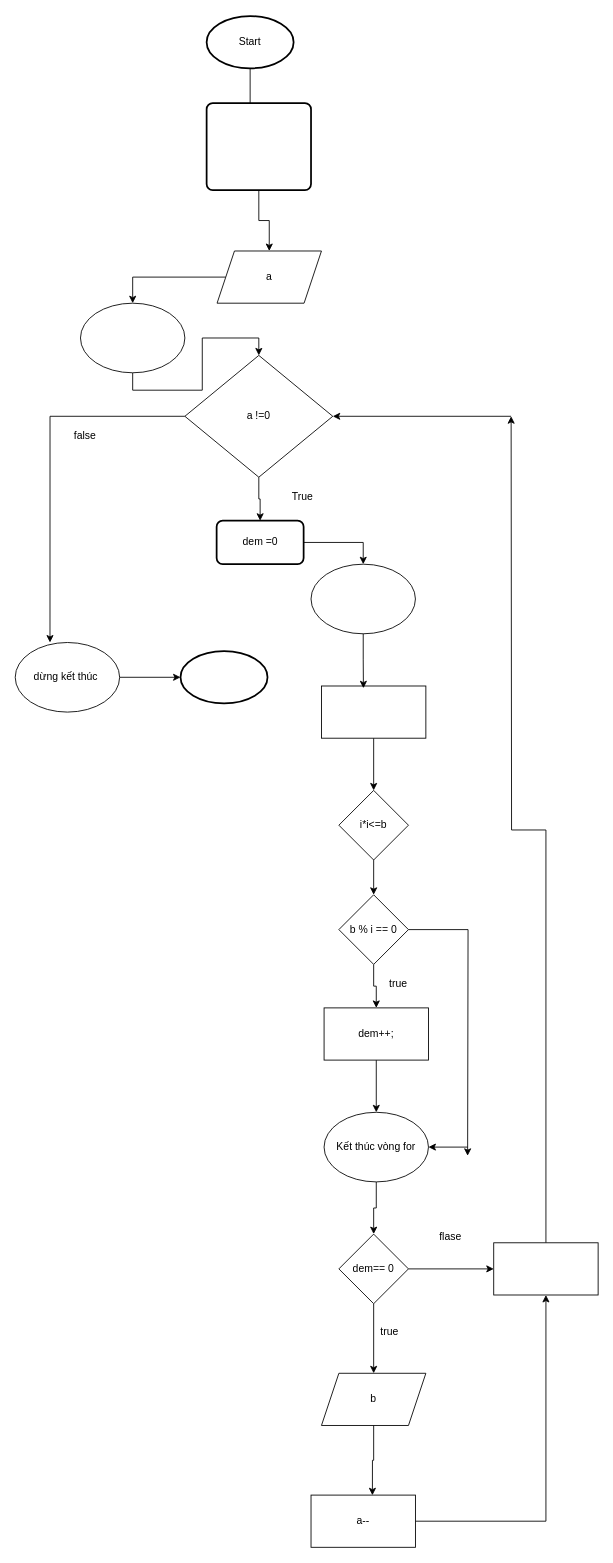
The diagram is 613 pixels wide and 1563 high, and some of its shapes have lost their labels. Here are the shapes that lost their labels. From the top down, the centre of each, then its label:
[258,146]: input a, b=2
[132,337]: while
[362,598]: chạy lệnh for
[223,677]: End.
[373,711]: i =2
[545,1268]: b++
